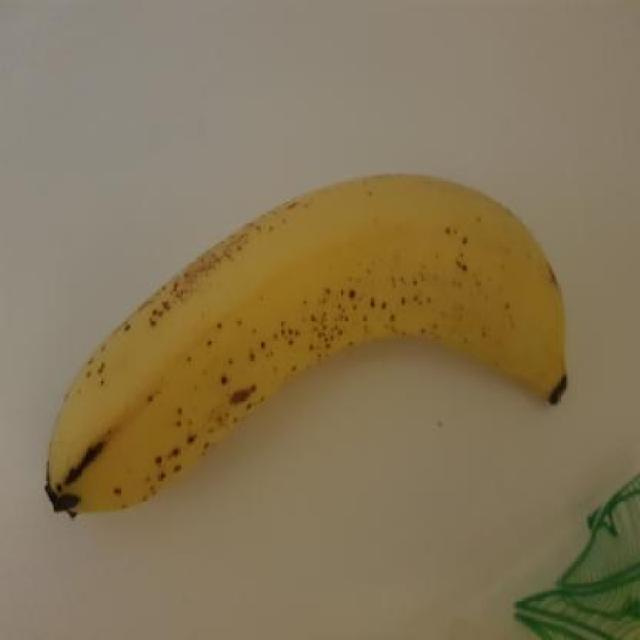Banana: (41, 168, 572, 521)
